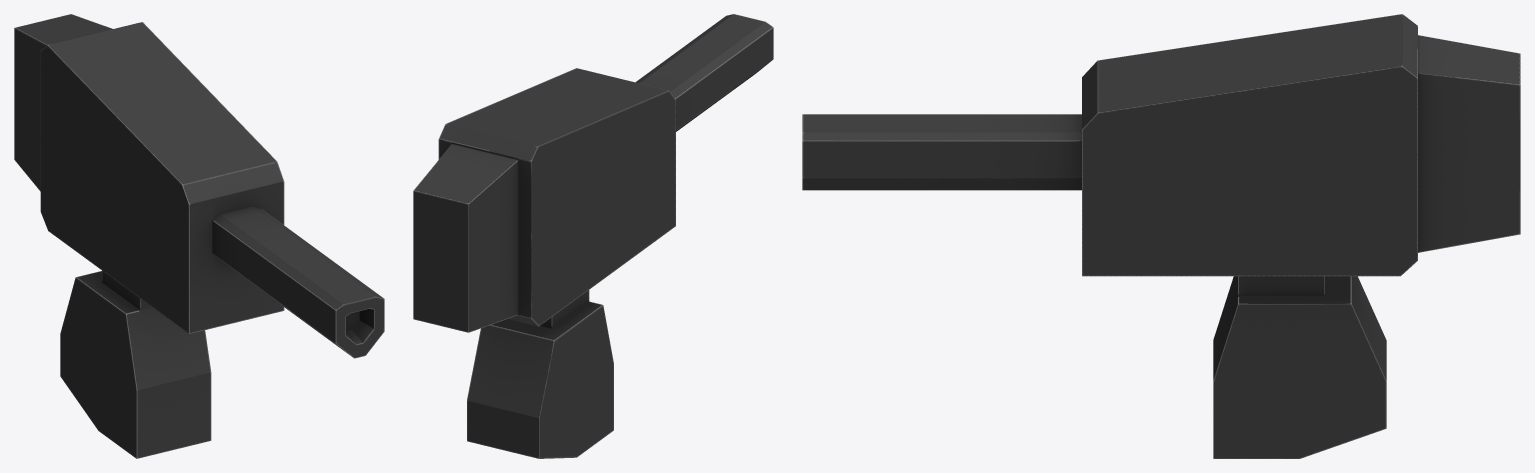
The picture shows the model from 3 angles, left to right: view 1: azimuth 30°, elevation 25°; view 2: azimuth 150°, elevation 25°; view 3: azimuth 270°, elevation 25°; orthographic projection. The views are drawn at different scales.
Visible parts, largest first — view 1: Cube.004; view 2: Cube.004; view 3: Cube.004.
Boxes of the visible parts, left/top/right/bottom form: Cube.004: left=14, top=14, right=384, bottom=458; Cube.004: left=413, top=14, right=773, bottom=458; Cube.004: left=802, top=14, right=1520, bottom=458.
Size of the model in its own units: 0.7414 by 2.63 by 4.28.
Materials: 1 (1 with a texture image).
